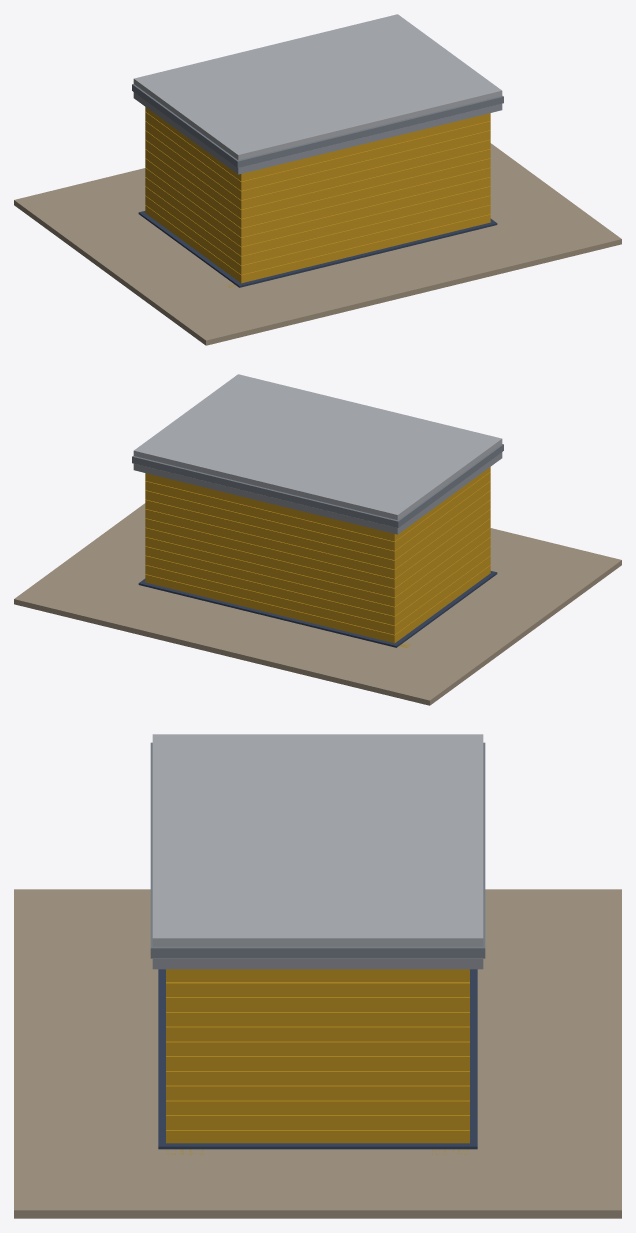
The model's file is stage_06_roof.glb.
3 views of the same model, one above another, from view 1: azimuth 30°, elevation 25°; view 2: azimuth 150°, elevation 25°; view 3: azimuth 270°, elevation 25° (orthographic). The views are drawn at different scales.
Parts seen in each view (by area): view 1: world; view 2: world; view 3: world.
Part boxes in pixels (x1,y1,x2,y2): world: (14,14,621,345); world: (14,374,621,705); world: (14,734,621,1218).
Bounding box in the file's own units: 10 × 3.9 × 8.
